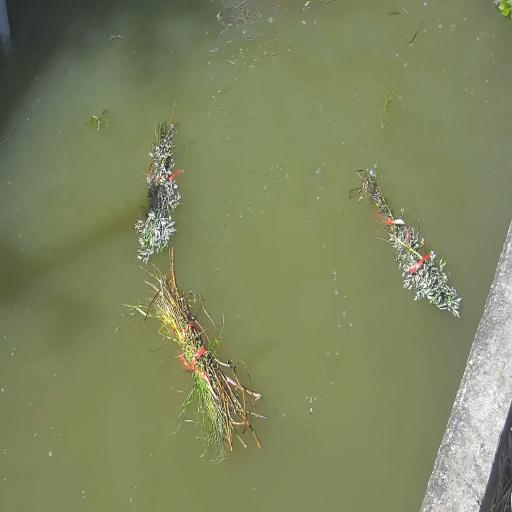twig: (133, 248, 266, 453), (356, 170, 461, 316), (135, 110, 182, 263), (494, 0, 512, 19)
